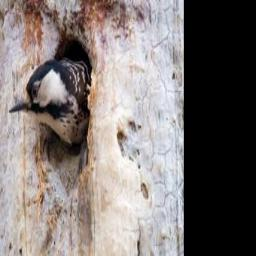Woodpecker: (10, 51, 90, 148)
